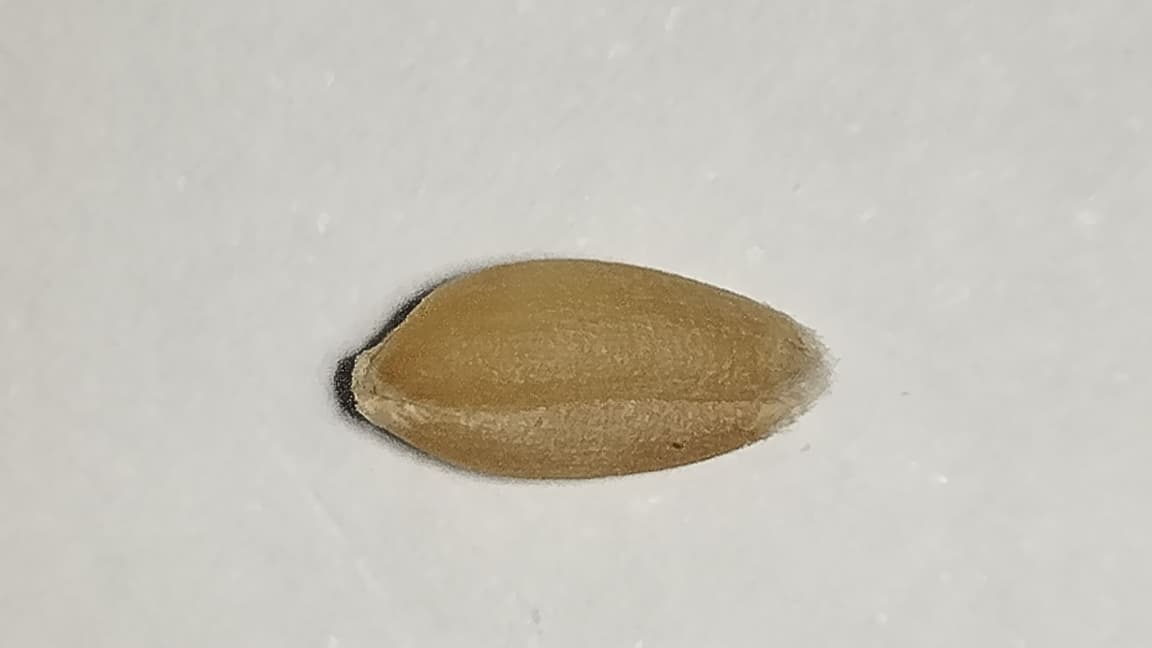healthy: (352, 258, 824, 477)
